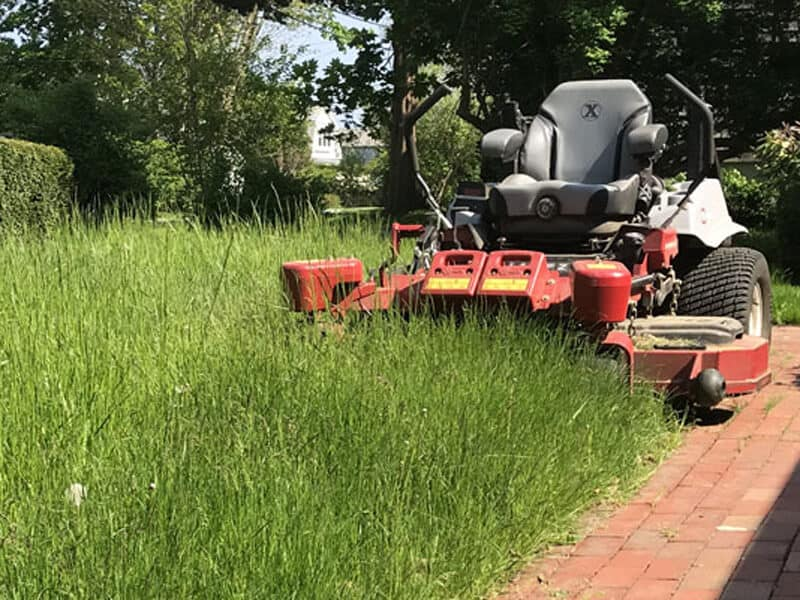grass: (1, 311, 596, 599)
